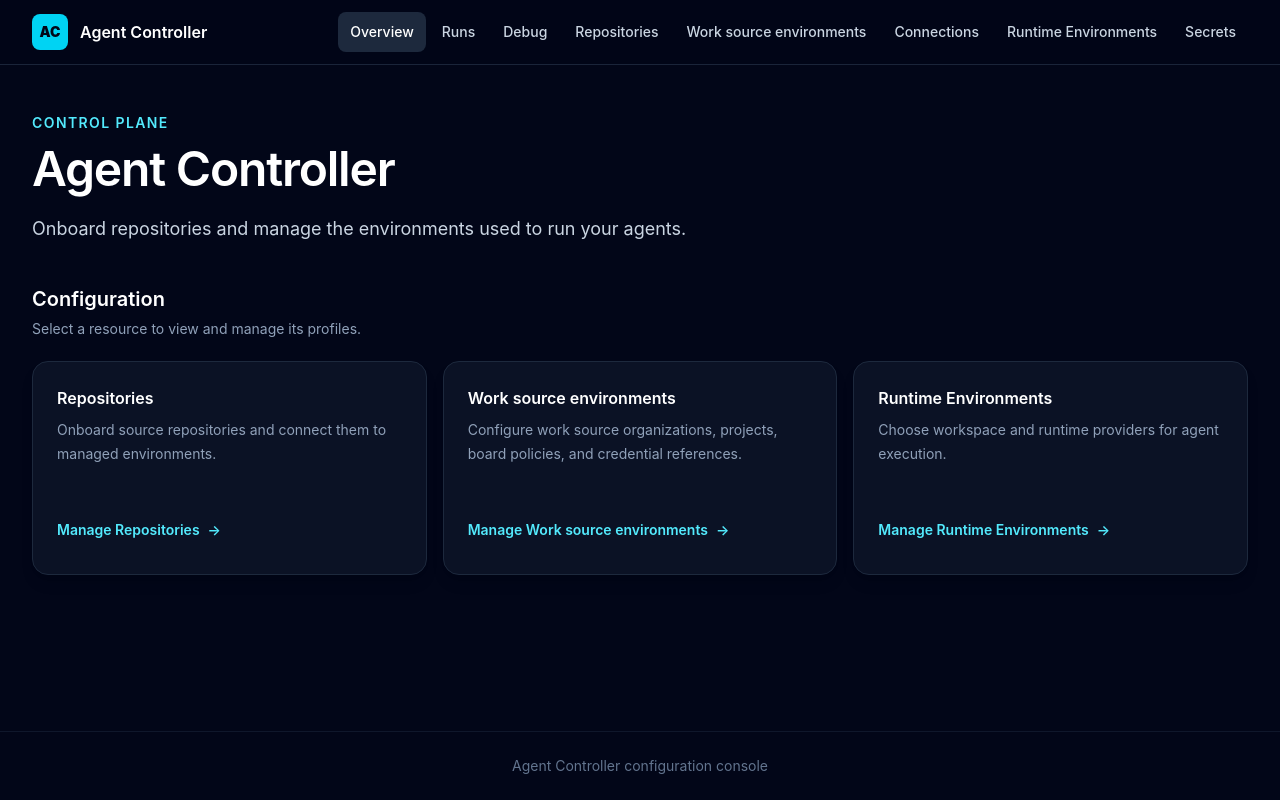
Test: App shell › routes same-origin navigation without a document reload
Click the link "Repositories". click: [617, 32]
box: [575,23,658,40]
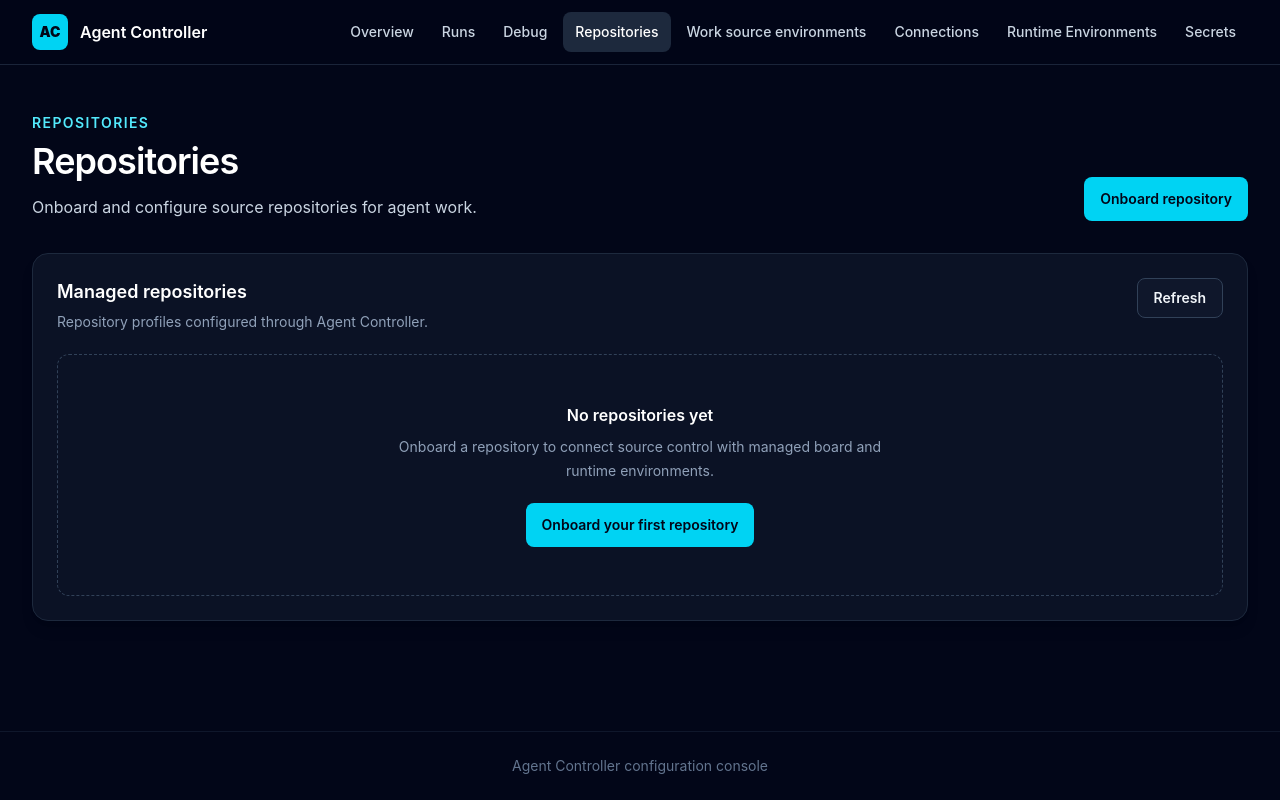
Now the heading "Repositories" is shown, box [32,139,238,183]
Now the heading "No repositories yet" is shown, box [567,405,713,425]
